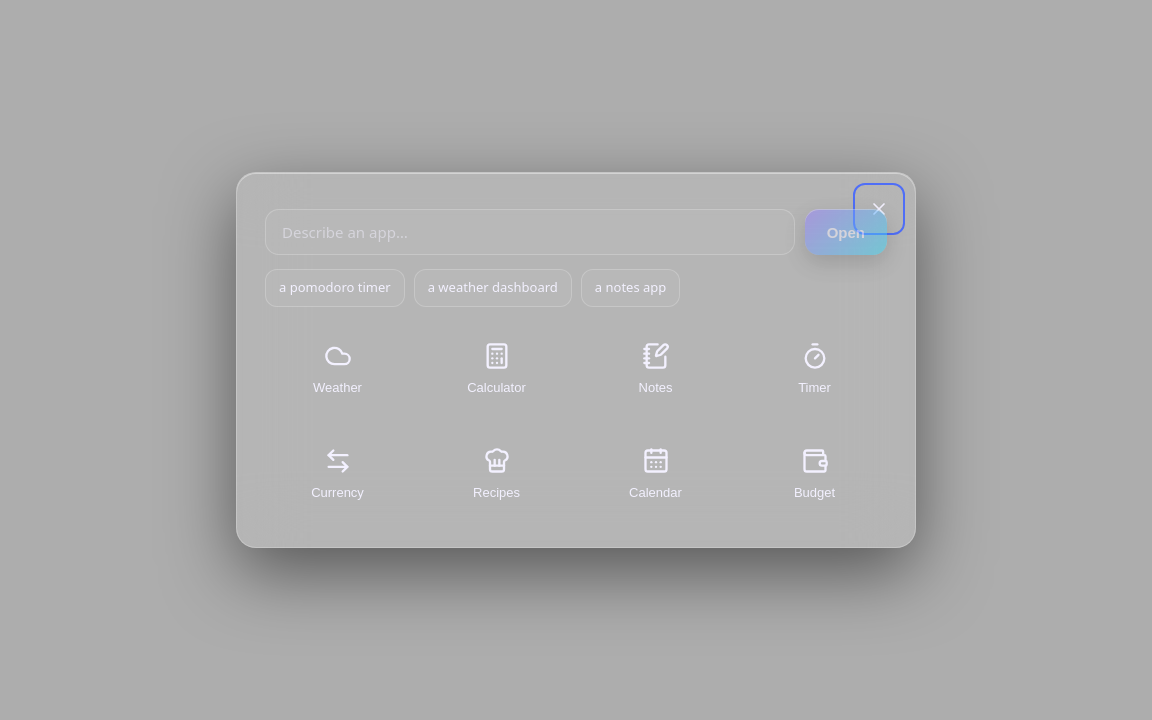
Test case: SearchLauncherPanel › chip interactions › clicking an example chip fills the input with the chip text
Click the button with class "launcher__chip" showing "a pomodoro timer": (335, 288) [265, 269, 405, 307]
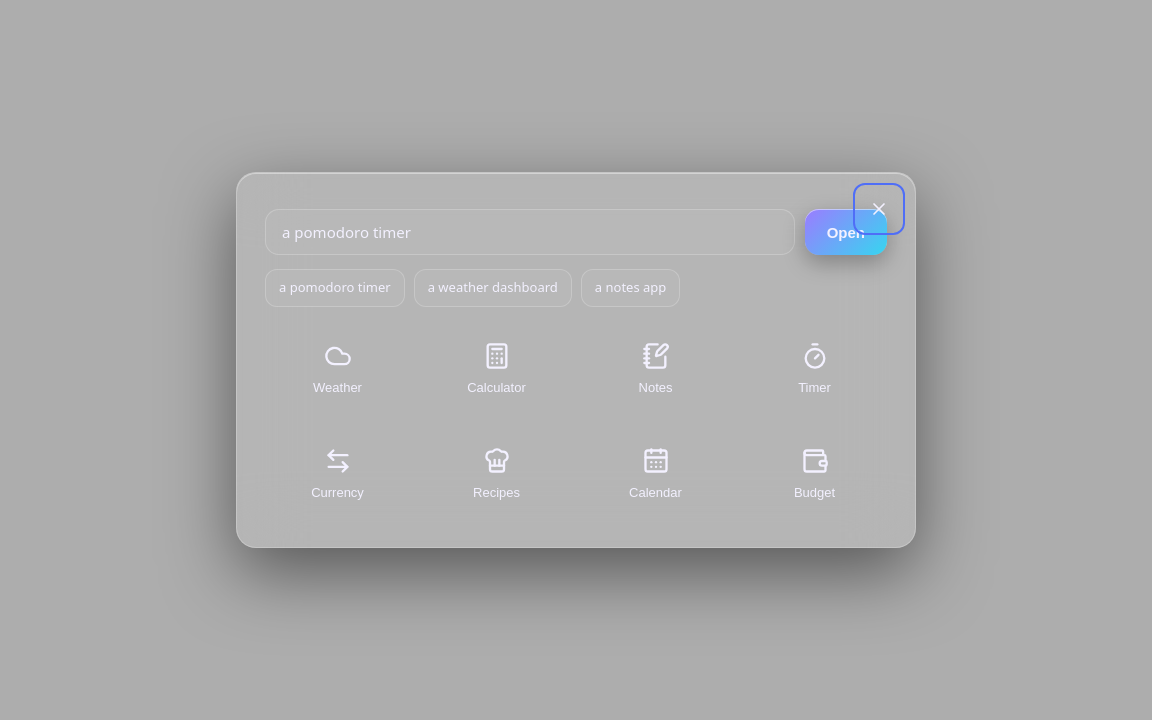
Check: the field named "Describe an app" holds "a pomodoro timer", box [265, 209, 795, 255]
